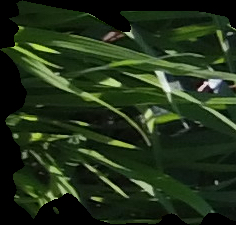grass: (1, 1, 235, 224)
